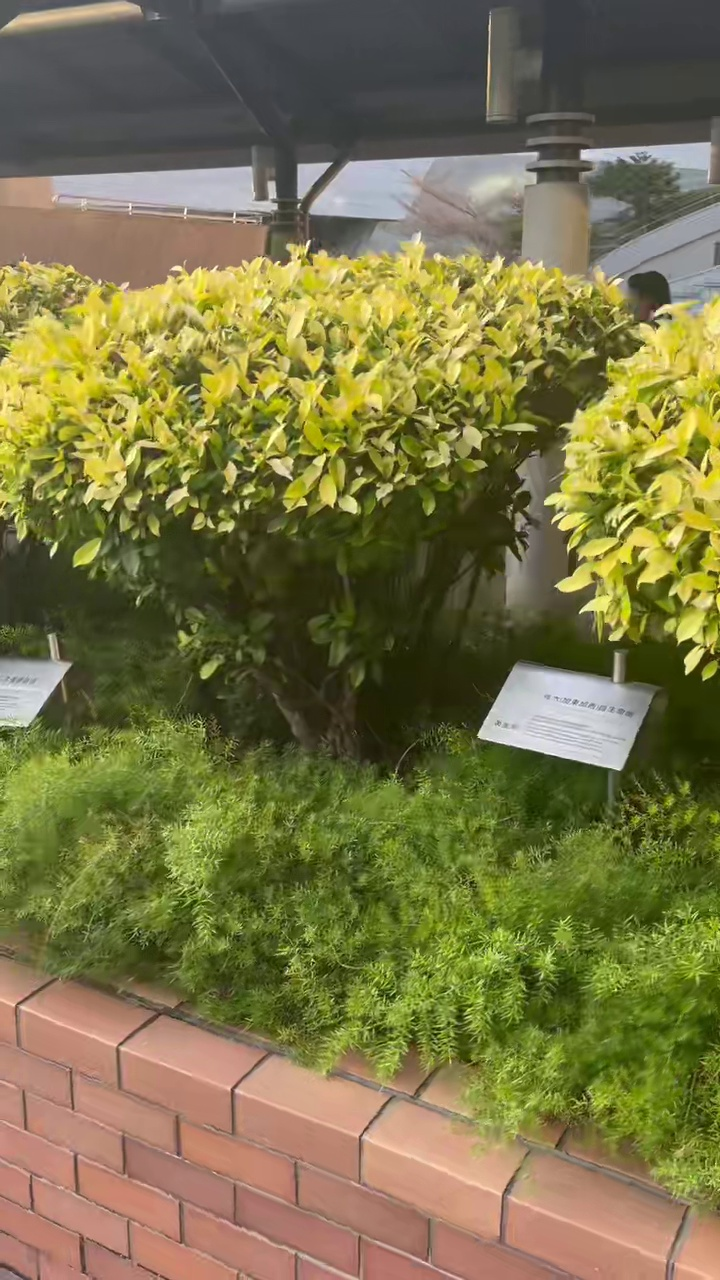Golden-leaves Fig: (0, 247, 633, 758)
